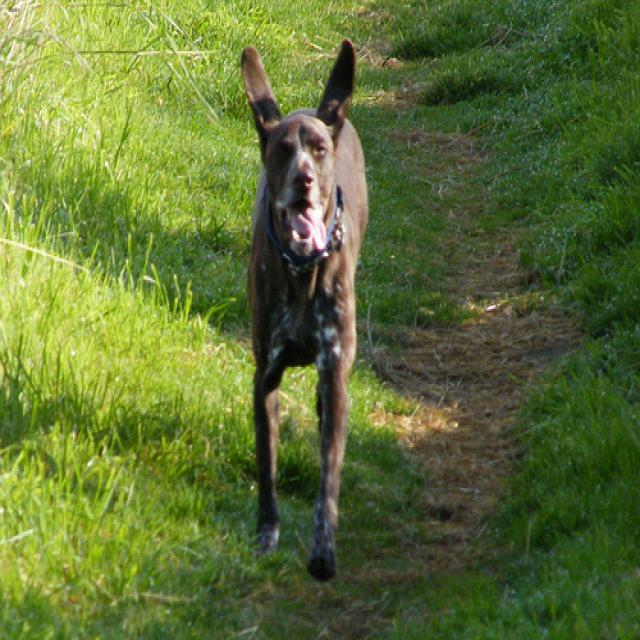dog-german_shorthaired: (234, 29, 379, 591)
